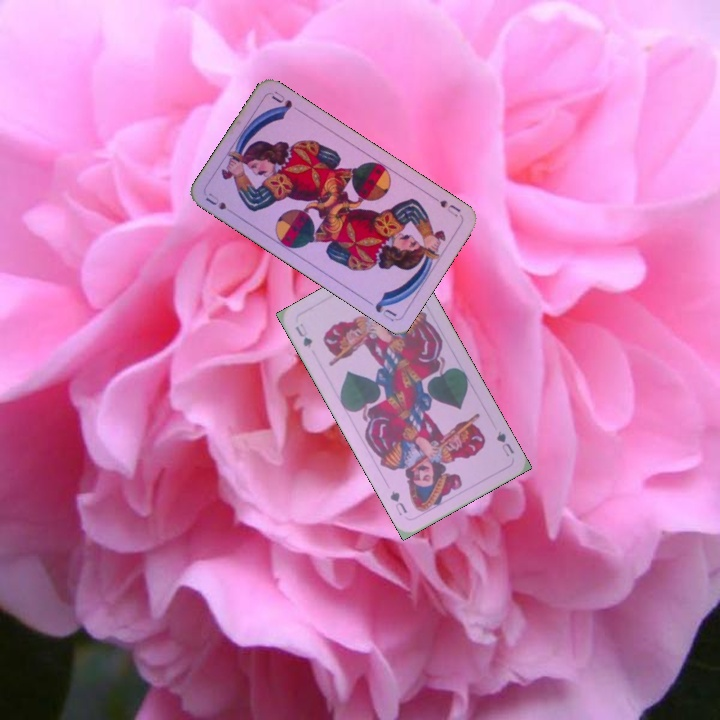GU: (492, 427, 517, 459), (291, 319, 315, 351)
SU: (427, 192, 463, 220), (201, 189, 229, 213)
